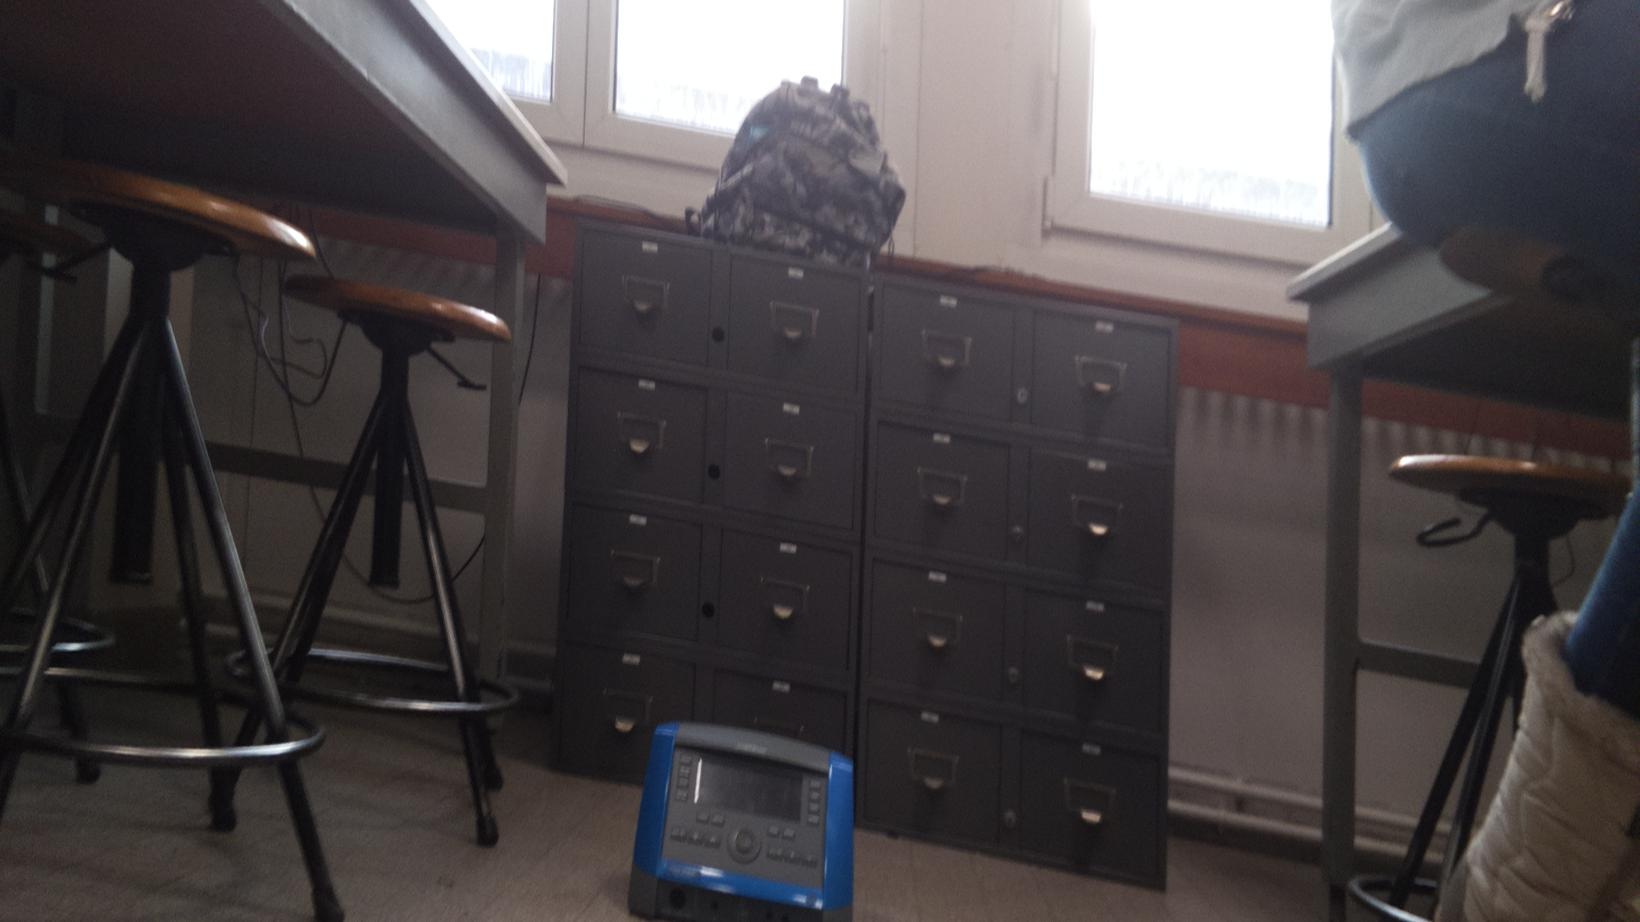big: (708, 86, 895, 257)
medium: (636, 719, 857, 922)
